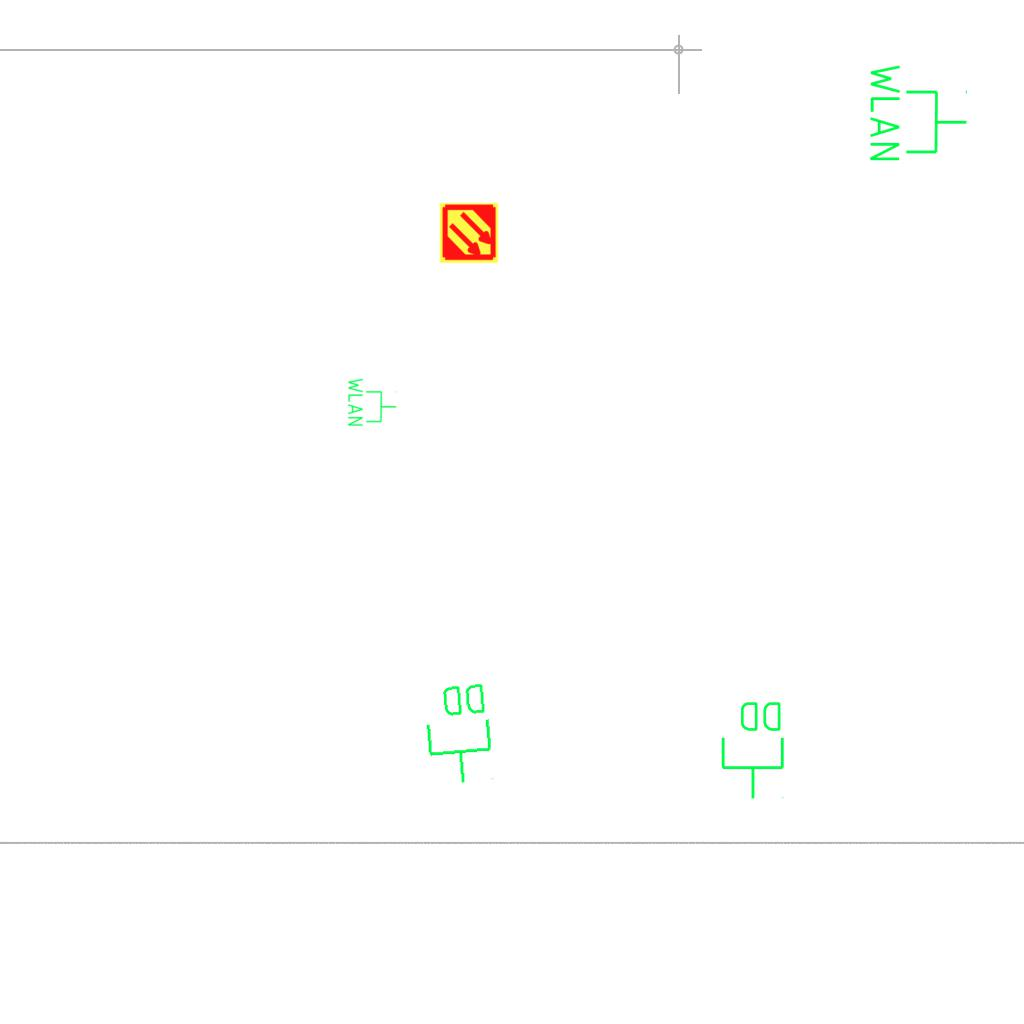ASR_Ansaugrauchmelder: (438, 202, 500, 264)
Datenanschluss_zweifach: (420, 679, 499, 788), (719, 698, 788, 801)
WLAN: (866, 60, 970, 165), (346, 376, 398, 428)
